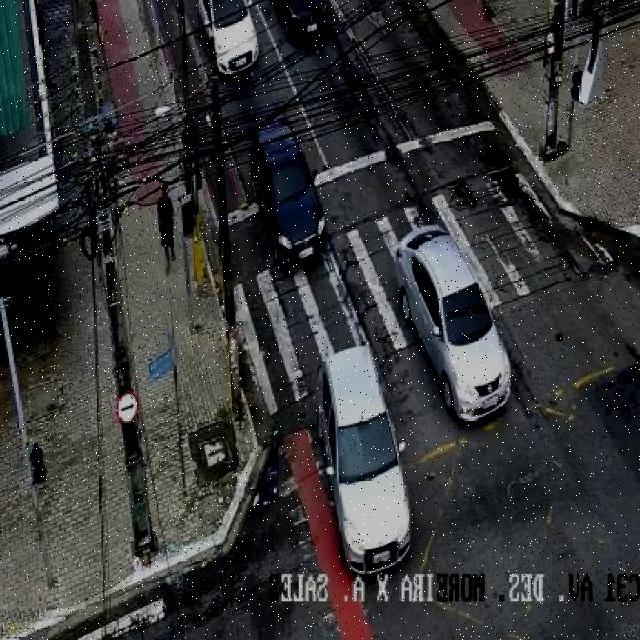Car: (394, 224, 514, 423), (313, 344, 412, 576), (251, 124, 330, 268), (197, 0, 262, 75), (266, 0, 339, 47)
